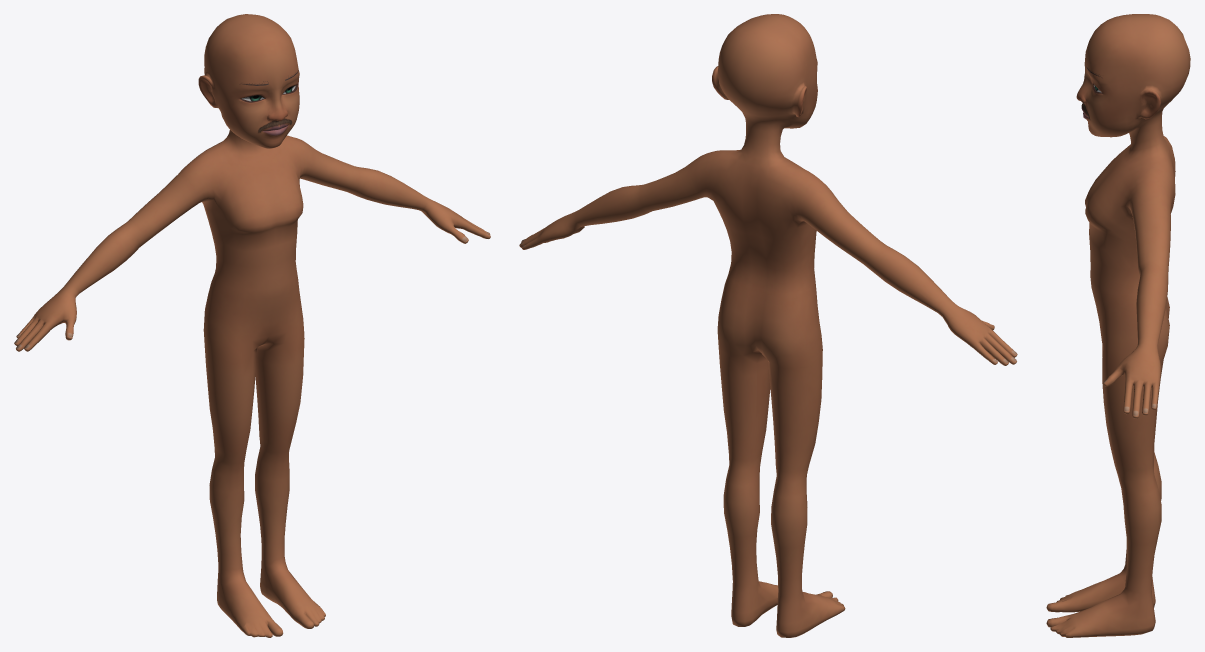
File: frame_0086.glb
3 renders of one model, left to right at view 1: azimuth 30°, elevation 25°; view 2: azimuth 150°, elevation 25°; view 3: azimuth 270°, elevation 25°, orthographic. The views are drawn at different scales.
Parts seen in each view (by area): view 1: frame_0086_head_geo; view 2: frame_0086_head_geo; view 3: frame_0086_head_geo.
Part boxes in pixels (x1,y1,x2,y2): frame_0086_head_geo: (14,14,490,637); frame_0086_head_geo: (519,14,1017,637); frame_0086_head_geo: (1046,14,1190,637).
Bounding box in the file's own units: 1.28 × 1.5 × 0.3253.
3 materials, 3 textured.
